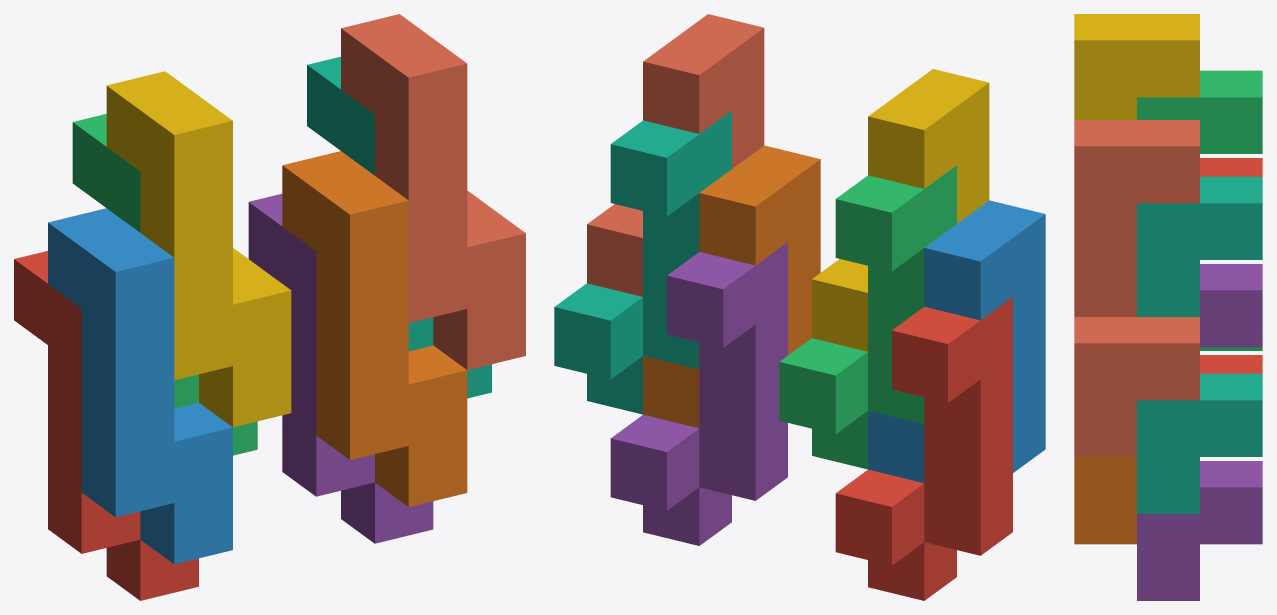
The model's file is tiling.obj.
The picture shows the model from 3 angles, left to right: view 1: azimuth 30°, elevation 25°; view 2: azimuth 150°, elevation 25°; view 3: azimuth 270°, elevation 25°; orthographic projection. The views are drawn at different scales.
Parts seen in each view (by area): view 1: copy_1_domain_2, copy_1_domain_6, copy_1_domain_8, copy_1_domain_4, copy_1_domain_1, copy_1_domain_5, copy_1_domain_3, copy_1_domain_7; view 2: copy_1_domain_1, copy_1_domain_5, copy_1_domain_3, copy_1_domain_7, copy_1_domain_2, copy_1_domain_6, copy_1_domain_4, copy_1_domain_8; view 3: copy_1_domain_8, copy_1_domain_7, copy_1_domain_5, copy_1_domain_4, copy_1_domain_3, copy_1_domain_6, copy_1_domain_1.
Boxes of the visible parts, x1=… form: copy_1_domain_2: x1=48, y1=208, x2=232, y2=564; copy_1_domain_6: x1=282, y1=151, x2=467, y2=506; copy_1_domain_8: x1=341, y1=14, x2=525, y2=369; copy_1_domain_4: x1=106, y1=71, x2=291, y2=427; copy_1_domain_1: x1=14, y1=251, x2=198, y2=600; copy_1_domain_5: x1=248, y1=193, x2=433, y2=543; copy_1_domain_3: x1=72, y1=114, x2=257, y2=455; copy_1_domain_7: x1=307, y1=56, x2=491, y2=398; copy_1_domain_1: x1=835, y1=297, x2=1012, y2=600; copy_1_domain_5: x1=610, y1=242, x2=787, y2=545; copy_1_domain_3: x1=779, y1=165, x2=956, y2=469; copy_1_domain_7: x1=554, y1=110, x2=731, y2=414; copy_1_domain_2: x1=868, y1=200, x2=1045, y2=482; copy_1_domain_6: x1=643, y1=145, x2=820, y2=428; copy_1_domain_4: x1=812, y1=69, x2=989, y2=351; copy_1_domain_8: x1=587, y1=14, x2=764, y2=296; copy_1_domain_8: x1=1074, y1=120, x2=1199, y2=456; copy_1_domain_7: x1=1137, y1=176, x2=1262, y2=513; copy_1_domain_5: x1=1137, y1=264, x2=1262, y2=600; copy_1_domain_4: x1=1074, y1=14, x2=1199, y2=119; copy_1_domain_3: x1=1137, y1=70, x2=1262, y2=350; copy_1_domain_6: x1=1074, y1=457, x2=1136, y2=544; copy_1_domain_1: x1=1200, y1=158, x2=1262, y2=373.
Bounding box in the file's own units: 7 × 8 × 3.
